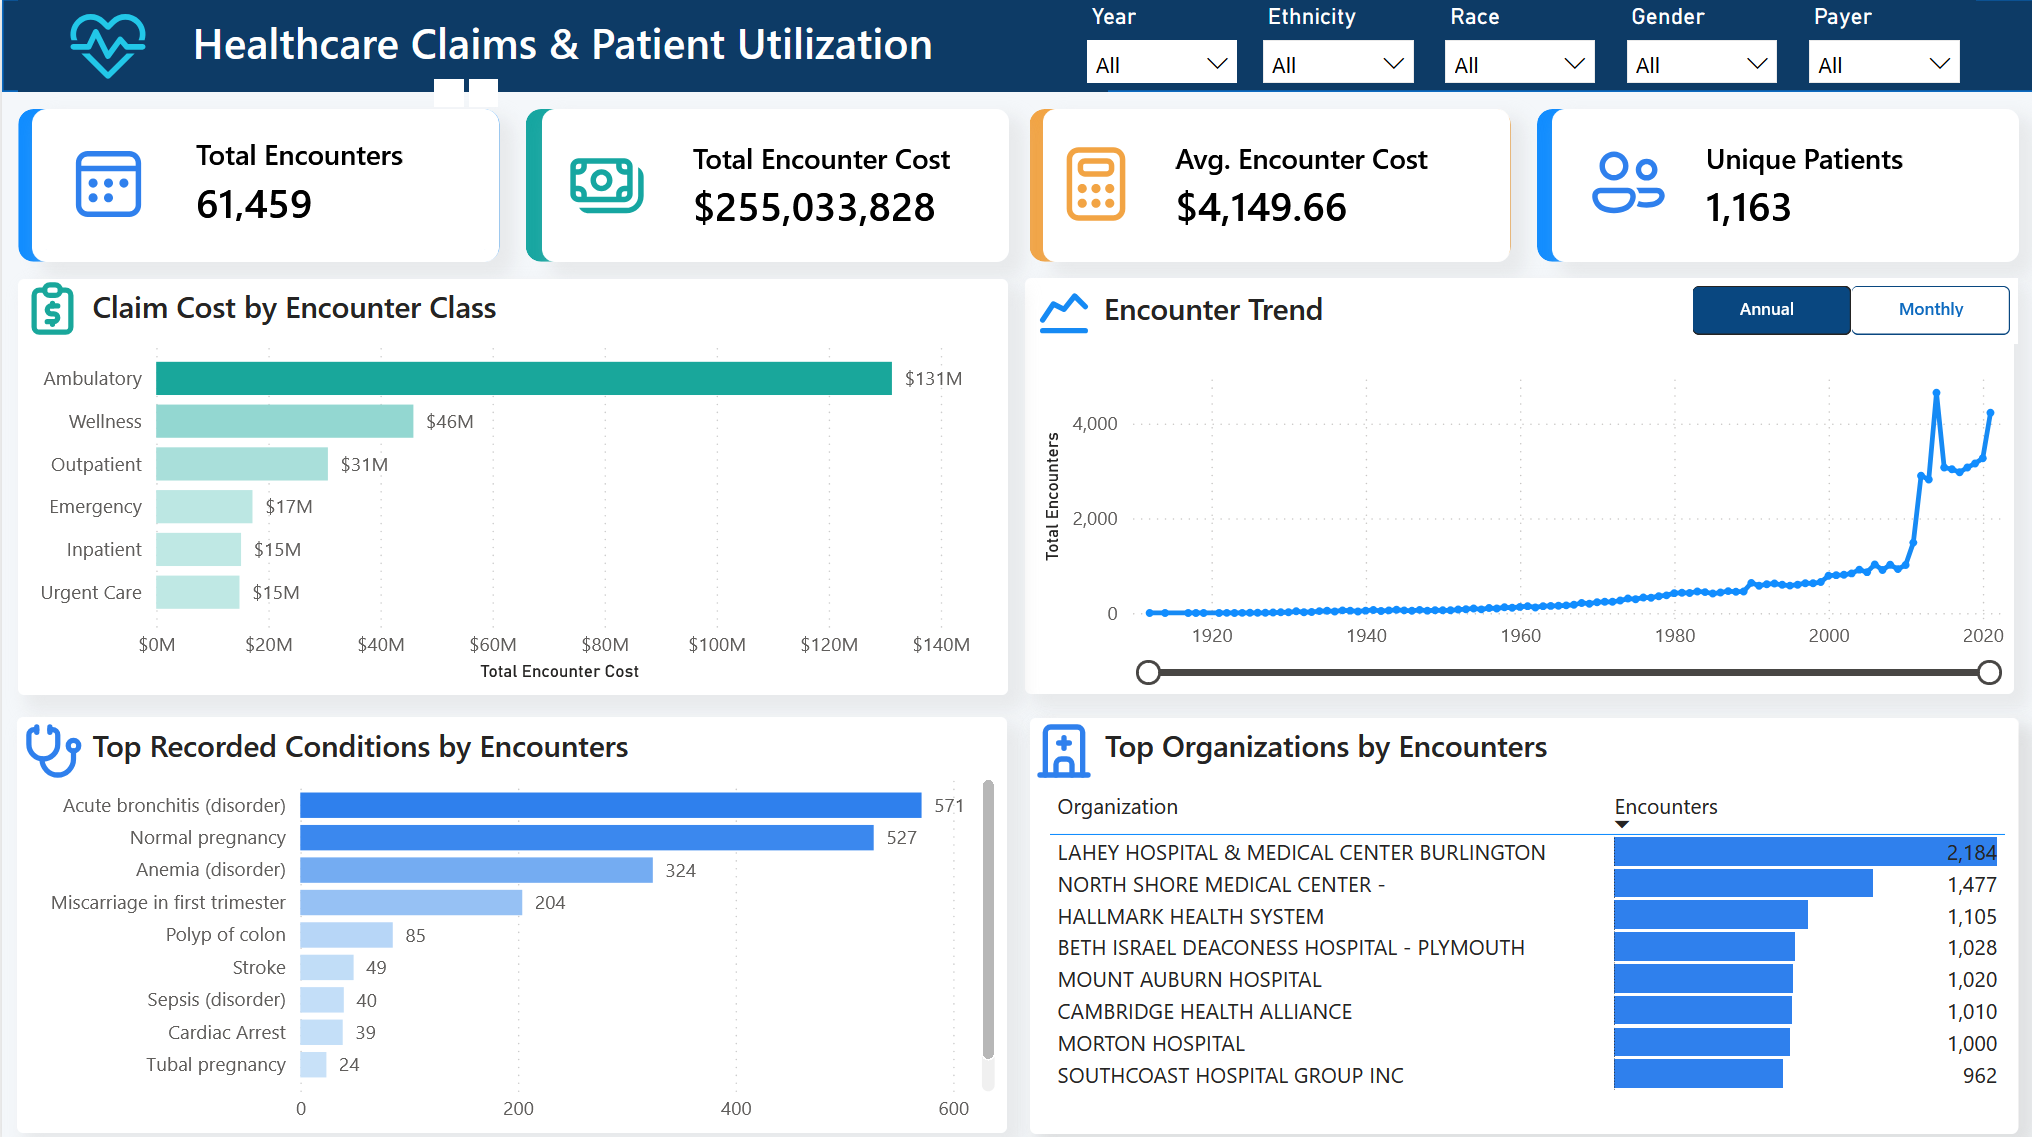

The dashboard page shown, as its layout file describes it:
{"tool":"powerbi","page":{"name":"Executive Overview","canvas":[1280,720],"ordinal":0},"visuals":[{"type":"shape","title":"unique patient blue","box":[966.4,69.1,303,96.2],"z":0},{"type":"shape","title":"Yellow avg","box":[646.3,68.9,303,96.2],"z":1000},{"type":"shape","title":"Money Green","box":[330,69.1,303,96.2],"z":2000},{"type":"shape","title":"Encounters blue","box":[10,69.1,303,96.2],"z":3000},{"type":"shape","box":[0,0,1280,58.5],"z":4000},{"type":"textbox","box":[9.9,0,685.6,58.5],"z":5000},{"type":"cardVisual","title":"Total Encounters","fields":{"Data":["analytics fact_encounter.Total Encounters"]},"box":[19.1,69.1,294,96],"z":6000},{"type":"cardVisual","title":"Total Encounters","fields":{"Data":["analytics fact_encounter.Total Claim Cost"]},"box":[339.5,69,294,96],"z":7000},{"type":"cardVisual","title":"Total Encounters","fields":{"Data":["analytics fact_encounter.Avg Cost per Encounter"]},"box":[655.6,69.1,294,96],"z":8000},{"type":"cardVisual","title":"Total Encounters","fields":{"Data":["analytics fact_encounter.Unique Patients"]},"box":[975.5,69.1,294,96.1],"z":9000},{"type":"slicer","fields":{"Values":["analytics fact_encounter.encounter_date.Variation.Date Hierarchy.Year"]},"box":[672.7,0,114.9,56.5],"z":10000},{"type":"lineChart","title":"Total Encounters Monthly","fields":{"Category":["analytics fact_encounter.Encounter Year"],"Y":["analytics fact_encounter.Total Encounters"]},"box":[643.2,175.4,623,262],"z":11000},{"type":"clusteredBarChart","title":"Top Conditions by Total Claim Cost","fields":{"Category":["analytics fact_encounter.encounter_class"],"Y":["analytics fact_encounter.Total Claim Cost"]},"box":[10,176.4,623,262],"z":12000},{"type":"clusteredBarChart","title":"placeholder","fields":{"Category":["analytics dim_organization.organization_name"],"Y":["analytics fact_encounter.Total Encounters"]},"box":[646.4,452.7,623,261],"z":14000},{"type":"slicer","fields":{"Values":["analytics dim_patient.ethnicity"]},"box":[783.7,0,114.9,56.5],"z":15000},{"type":"slicer","fields":{"Values":["analytics dim_patient.gender"]},"box":[1012.3,0,114.9,56.5],"z":16000},{"type":"slicer","fields":{"Values":["analytics dim_payer.payer_name"]},"box":[1127.5,0,114.9,56.5],"z":17000},{"type":"slicer","fields":{"Values":["analytics dim_patient.race"]},"box":[898.3,0,114,56.4],"z":18000},{"type":"clusteredBarChart","title":"Top Conditions by Total Claim Cost","fields":{"Category":["analytics dim_condition.condition_description"],"Y":["analytics fact_encounter.Encounters With Condition"]},"box":[9.7,451.8,623,262],"z":18500},{"type":"image","box":[0,0,133.7,56.5],"z":19000},{"type":"image","box":[31.8,89.1,71,55],"z":20000},{"type":"image","box":[988.2,86.4,71,55],"z":21000},{"type":"image","box":[345.5,89.1,71,55],"z":22000},{"type":"image","box":[652.7,89.1,71,55],"z":23000},{"type":"tableEx","title":"placeholder","fields":{"Values":["analytics dim_organization.organization_name","analytics fact_encounter.Total Encounters"]},"box":[647,452,622,262],"z":25000},{"type":"image","box":[12,175,40,40],"z":26000},{"type":"image","box":[12,453,40,40],"z":27000},{"type":"image","box":[648,177,40,40],"z":28000},{"type":"image","box":[648,453,40,40],"z":29000},{"type":"textbox","box":[52,176,276,42],"z":30000},{"type":"textbox","box":[688,177,276,42],"z":31000},{"type":"textbox","title":"Top Recorded Conditions by Encounters","box":[52,452.6,456.6,43],"z":32000},{"type":"textbox","box":[689.1,452.7,370,42.7],"z":33000},{"type":"advancedSlicerVisual","fields":{"Values":["Trend View.Trend View"]},"box":[1059.2,175.4,210,41.5],"z":34000}]}

Visuals, with their boxes in screenshot pixels (x1, y1, x2, y2), scaled from the page's 1280x720 canvas onto the 2032x1137 screenshot:
"unique patient blue" shape: (1534,109,2015,261)
"Yellow avg" shape: (1026,109,1507,261)
"Money Green" shape: (524,109,1005,261)
"Encounters blue" shape: (16,109,497,261)
shape: (0,0,2031,92)
textbox: (16,0,1104,92)
"Total Encounters" cardVisual: (30,109,497,261)
"Total Encounters" cardVisual: (539,109,1006,261)
"Total Encounters" cardVisual: (1041,109,1507,261)
"Total Encounters" cardVisual: (1549,109,2015,261)
slicer - analytics fact_encounter.encounter_date.Variation.Date Hierarchy.Year: (1068,0,1250,89)
"Total Encounters Monthly" lineChart: (1021,277,2010,691)
"Top Conditions by Total Claim Cost" clusteredBarChart: (16,279,1005,692)
"placeholder" clusteredBarChart: (1026,715,2015,1127)
slicer - analytics dim_patient.ethnicity: (1244,0,1427,89)
slicer - analytics dim_patient.gender: (1607,0,1789,89)
slicer - analytics dim_payer.payer_name: (1790,0,1972,89)
slicer - analytics dim_patient.race: (1426,0,1607,89)
"Top Conditions by Total Claim Cost" clusteredBarChart: (15,713,1004,1127)
image: (0,0,212,89)
image: (50,141,163,228)
image: (1569,136,1681,223)
image: (548,141,661,228)
image: (1036,141,1149,228)
"placeholder" tableEx: (1027,714,2015,1128)
image: (19,276,83,340)
image: (19,715,83,779)
image: (1029,280,1092,343)
image: (1029,715,1092,779)
textbox: (83,278,521,344)
textbox: (1092,280,1530,346)
"Top Recorded Conditions by Encounters" textbox: (83,715,807,783)
textbox: (1094,715,1681,782)
advancedSlicerVisual - Trend View.Trend View: (1681,277,2015,343)
